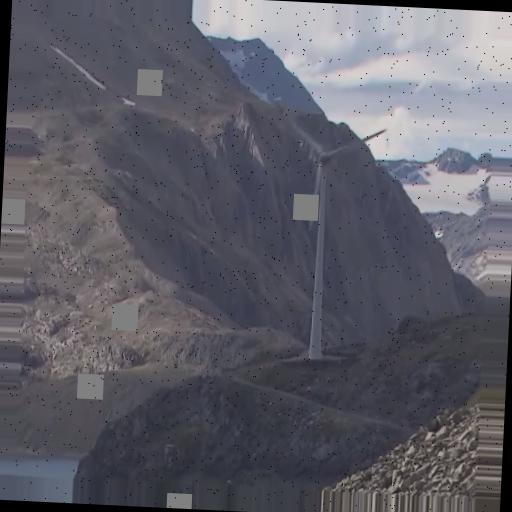wind turbine: (268, 111, 389, 360)
